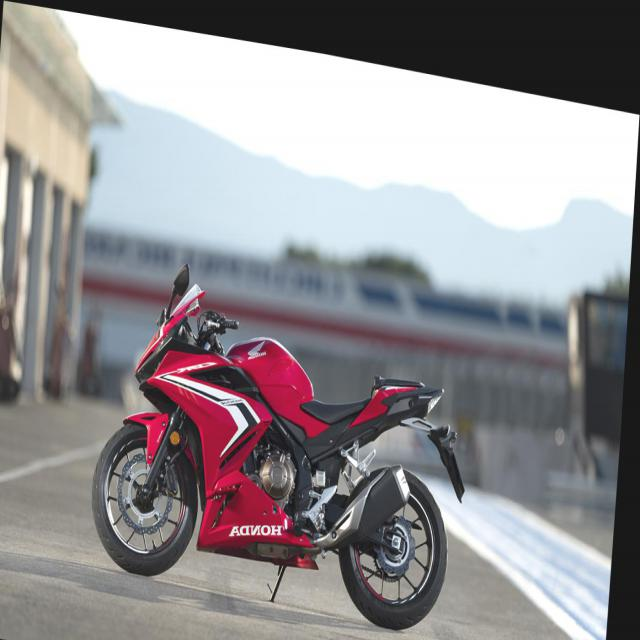CBR500R: (90, 241, 480, 624)
